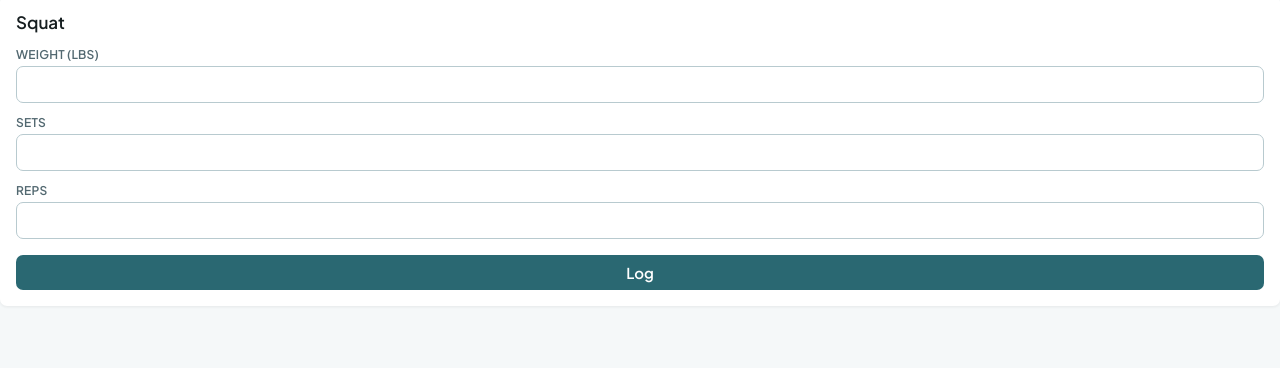
Test: ExerciseCard › shows all three errors when Log clicked with empty inputs
Click the button "Log" at (640, 272), box [16,255,1264,290]
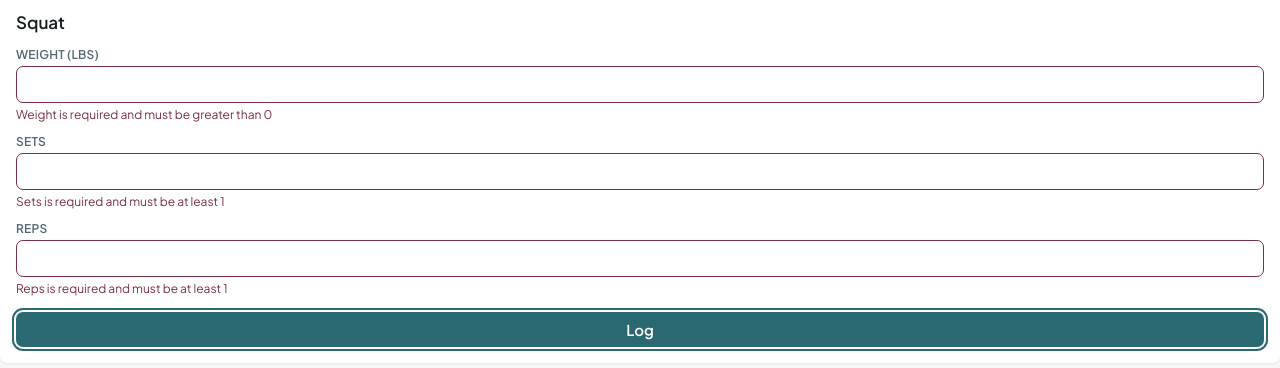
Now the text "Weight is required and must be greater than 0" is shown, box [16,107,272,122]
Now the text "Sets is required and must be at least 1" is shown, box [16,194,225,209]
Now the text "Reps is required and must be at least 1" is shown, box [16,281,228,296]
